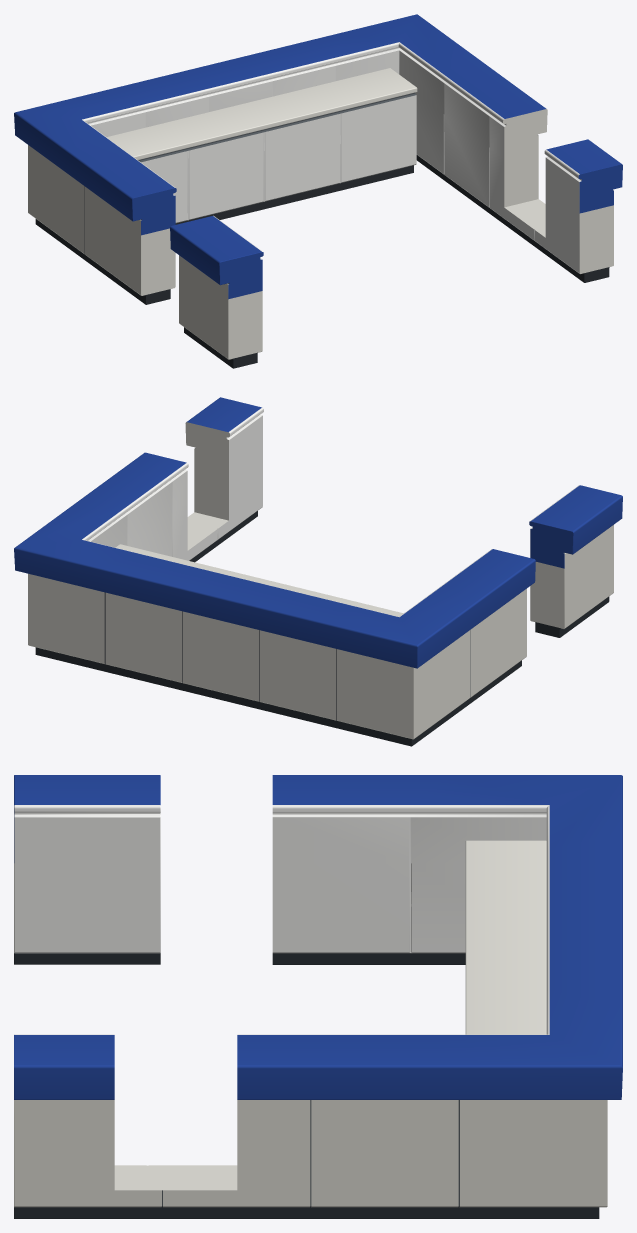
The model's file is checkout-counter-usquare-laminate-1990.glb.
3 renders of one model, top to bottom at view 1: azimuth 30°, elevation 25°; view 2: azimuth 150°, elevation 25°; view 3: azimuth 270°, elevation 25°, orthographic. The views are drawn at different scales.
Visible parts, largest first — view 1: usquare-surround-0, usquare-work-cabinet, usquare-surround-1; view 2: usquare-surround-0, usquare-surround-1, usquare-work-cabinet; view 3: usquare-surround-0, usquare-surround-1, usquare-work-cabinet.
Boxes of the visible parts, bbox=[...] form: usquare-surround-0: bbox=[14, 14, 622, 304]; usquare-work-cabinet: bbox=[106, 68, 417, 224]; usquare-surround-1: bbox=[170, 215, 263, 368]; usquare-surround-0: bbox=[14, 397, 535, 746]; usquare-surround-1: bbox=[529, 485, 622, 637]; usquare-work-cabinet: bbox=[115, 544, 403, 616]; usquare-surround-0: bbox=[14, 775, 622, 1218]; usquare-surround-1: bbox=[14, 775, 160, 964]; usquare-work-cabinet: bbox=[465, 840, 546, 1034].
Size of the model in its own units: 13.6 by 3.54 by 11.99.
